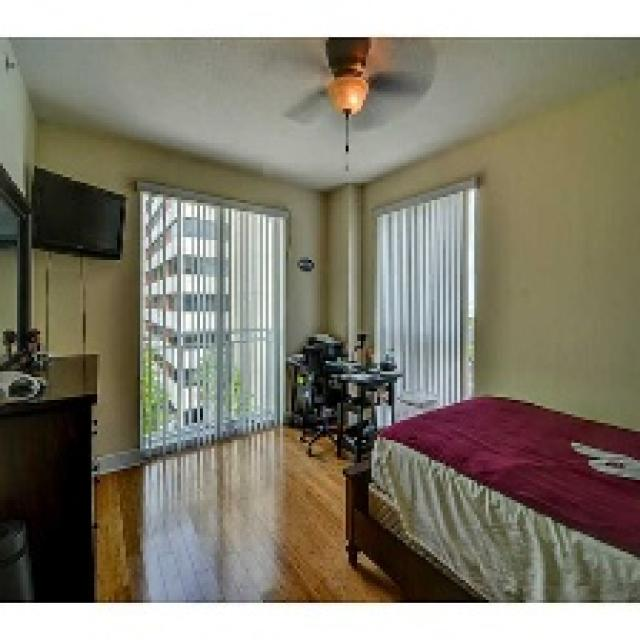Bed: (343, 391, 637, 600)
